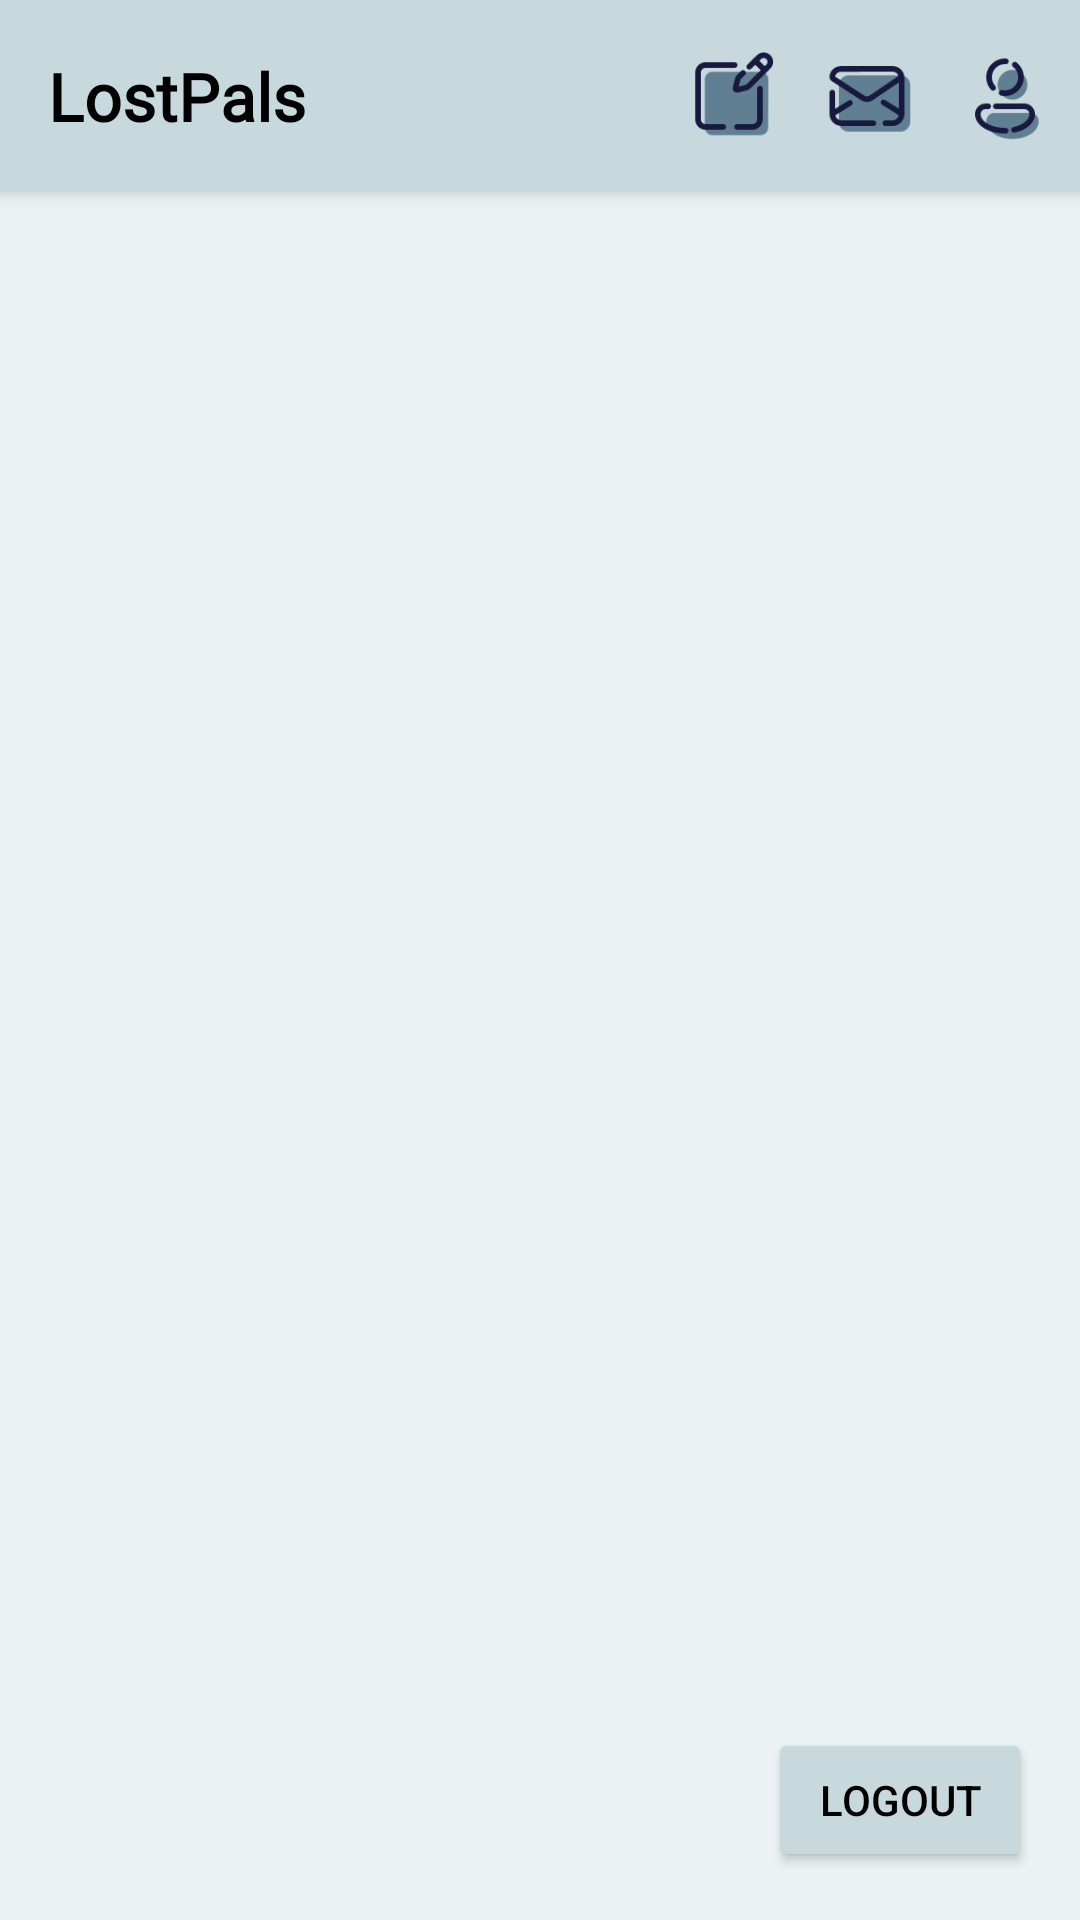

Named icons in this screenshot (1080px×1920px) and their centers, (x,y):
account: (1007,98)
create post: (734,94)
inbox: (870,99)
